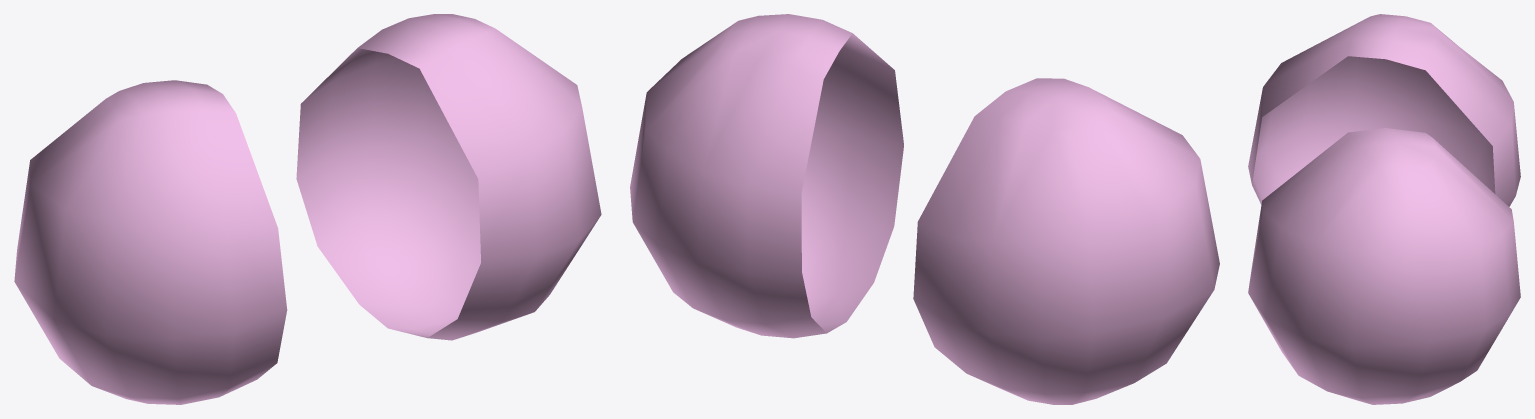
The model's file is Shrimp_Eye_Nylon.fbx.
The picture shows the model from 3 angles, left to right: view 1: azimuth 30°, elevation 25°; view 2: azimuth 150°, elevation 25°; view 3: azimuth 270°, elevation 25°; orthographic projection. The views are drawn at different scales.
Parts seen in each view (by area): view 1: Eye_low.001; view 2: Eye_low.001; view 3: Eye_low.001.
Part boxes in pixels (x1,y1,x2,y2): Eye_low.001: (14,14,601,404); Eye_low.001: (630,14,1219,404); Eye_low.001: (1248,14,1520,404).
Bounding box in the file's own units: 25.27 × 13.12 × 12.92.
